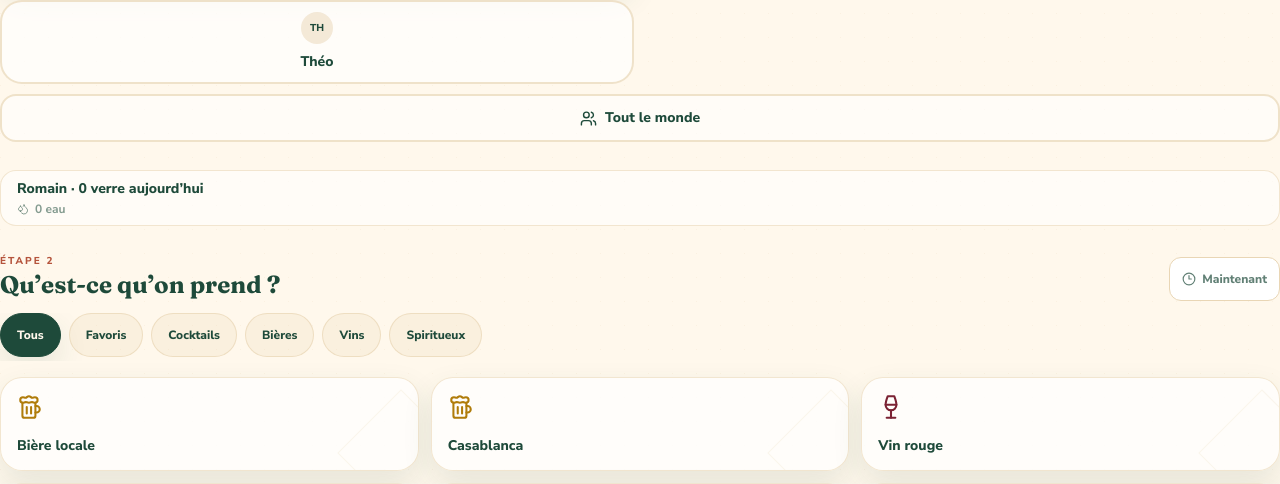
Test: filtres de catégories › affiche un empty state quand le filtre Favoris n’a aucun historique
The image size is (1280, 484).
Click the button "Favoris" at (106, 335), box [69,313,143,357]
(page scrolled)
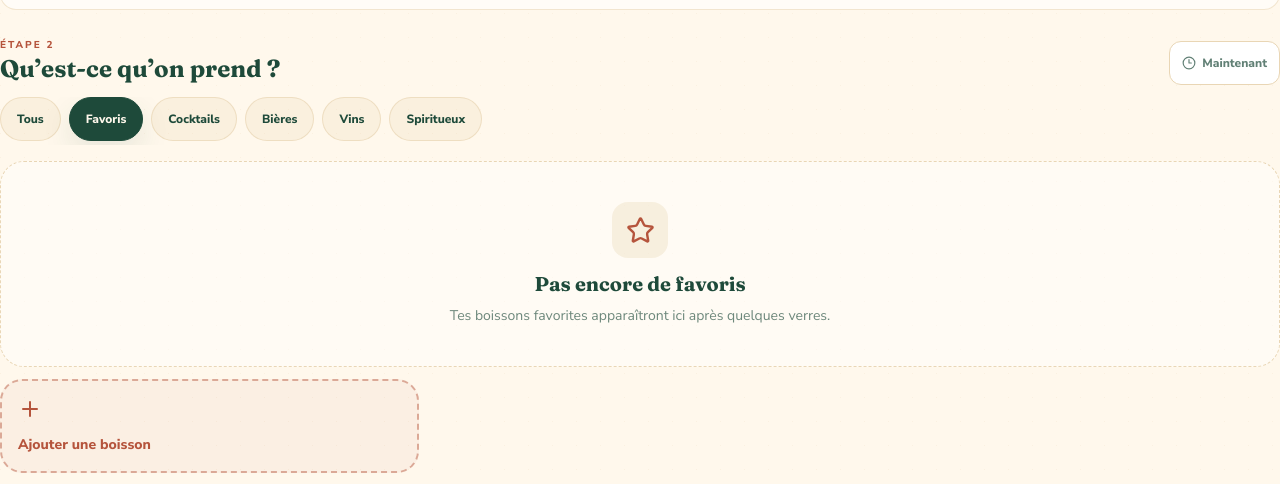
Check: the button "Ajouter une boisson" is shown, box [0,379,419,473]
Check: the text "Tes boissons favorites apparaîtront ici après quelques verres." is shown, box [448,306,832,326]
